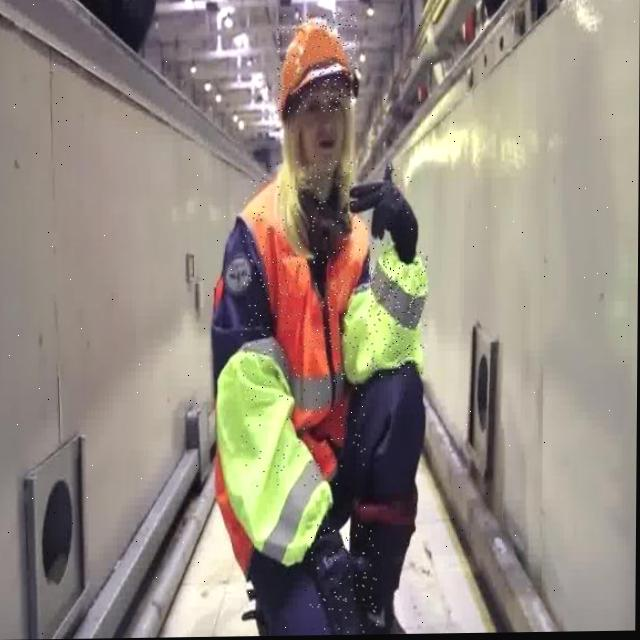Gloves: (349, 166, 421, 266)
Safety-Vest: (210, 204, 374, 579)
